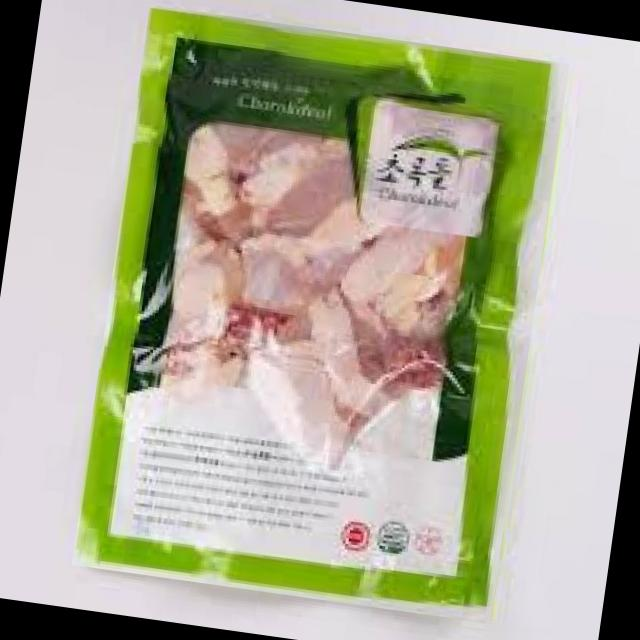chicken: (71, 5, 570, 625)
